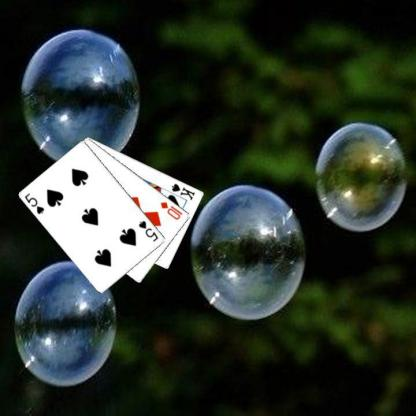10D: (158, 199, 184, 221)
5S: (22, 190, 46, 216), (136, 218, 160, 242)
KS: (170, 181, 196, 201)
